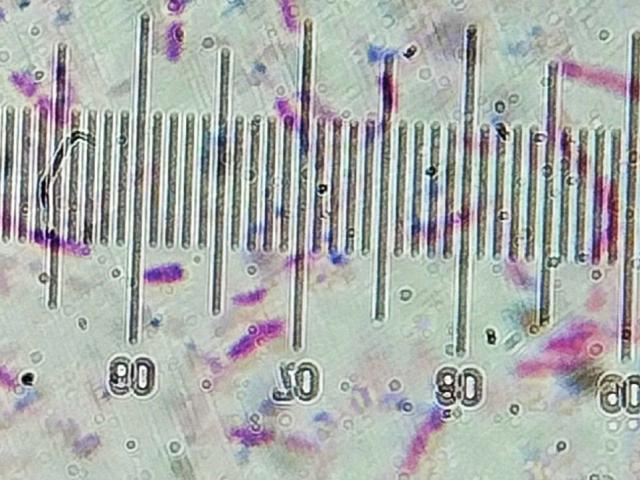E. coli: (409, 400, 439, 467), (231, 416, 288, 445), (512, 359, 583, 381), (231, 322, 277, 353), (146, 262, 187, 288), (556, 330, 594, 357), (0, 352, 21, 393), (274, 0, 306, 26), (8, 66, 34, 96), (165, 19, 184, 57), (236, 287, 266, 306)
